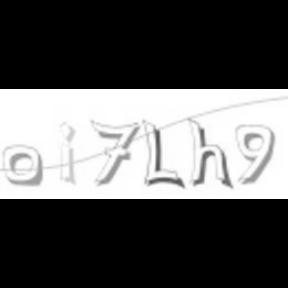7: (87, 115, 141, 188)
9: (232, 124, 276, 186)
L: (142, 118, 186, 190)
h: (186, 116, 234, 190)
i: (59, 120, 79, 184)
o: (1, 144, 43, 188)
